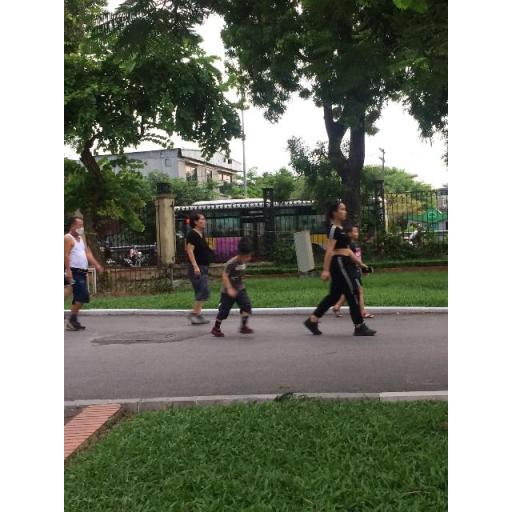Running: (300, 196, 374, 341), (208, 235, 265, 340)
